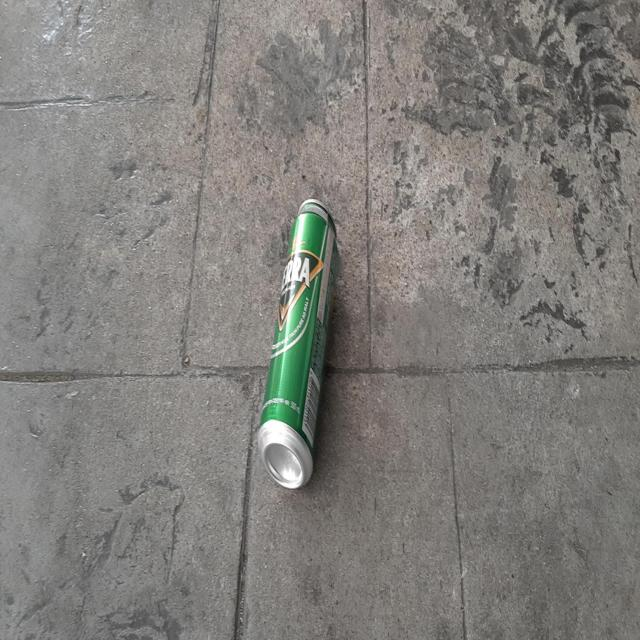can: (258, 198, 338, 487)
